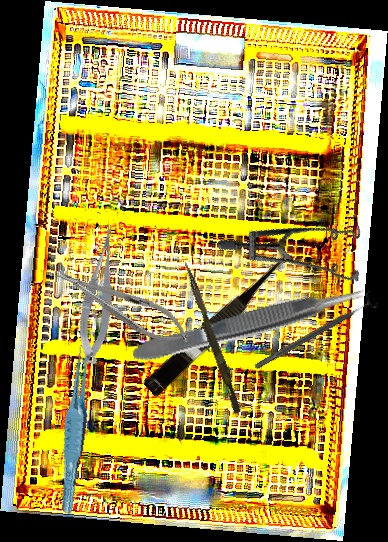Fixation Ring: (250, 288, 381, 377)
Micro Scissor: (142, 248, 299, 402), (67, 221, 134, 369)
Needle Holder: (49, 256, 198, 355)
Pusher: (177, 261, 246, 414)
Speculum: (215, 164, 386, 328)
Tissue Forceps: (129, 280, 368, 366), (48, 340, 104, 515)
